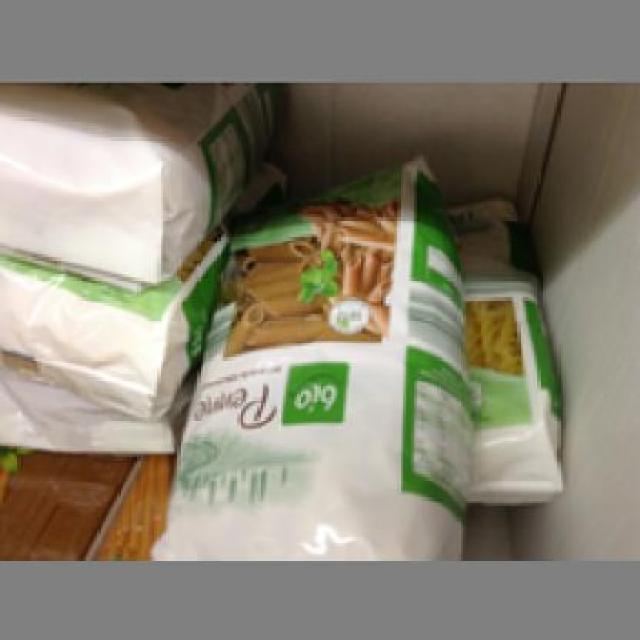Pasta: (151, 148, 460, 554), (445, 186, 561, 500)
